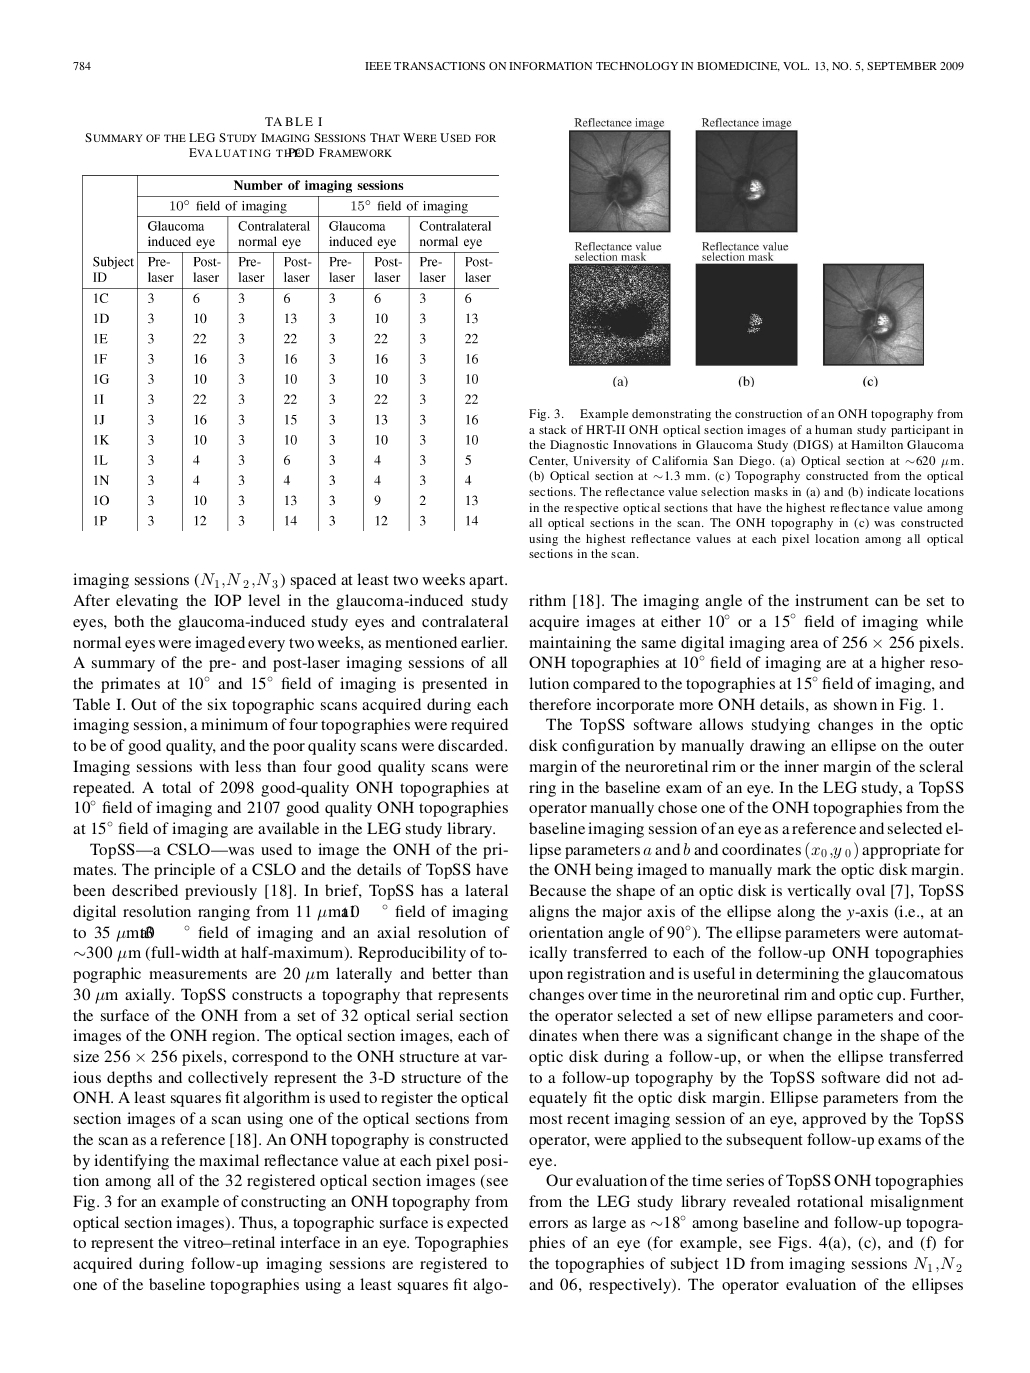Table: (82, 174, 498, 531)
figure: (695, 242, 797, 365), (569, 242, 670, 365), (695, 118, 797, 232), (569, 118, 670, 232), (823, 263, 923, 365)
